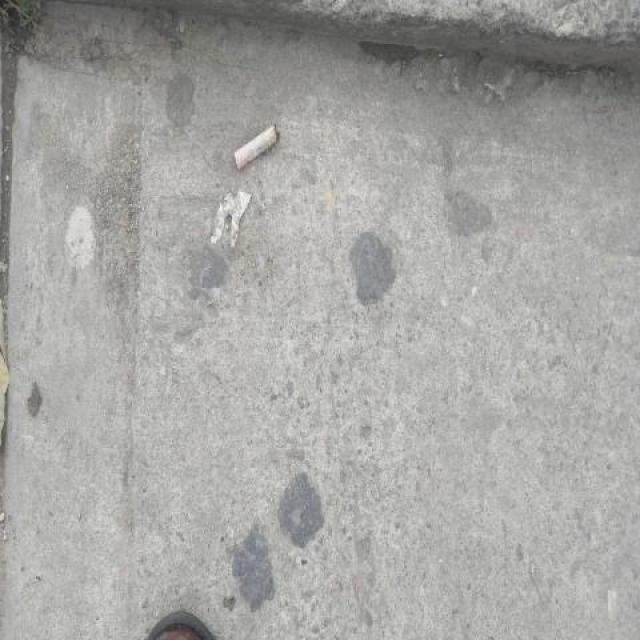non-organic waste: (232, 116, 283, 176)
